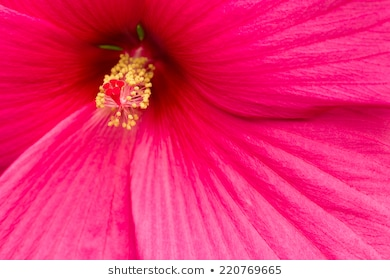Hibiscus: (3, 1, 389, 262)
